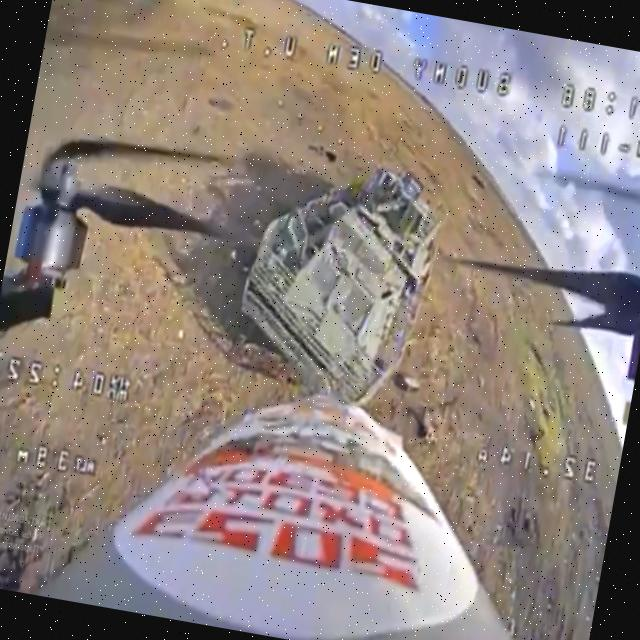APC: (227, 141, 451, 409)
